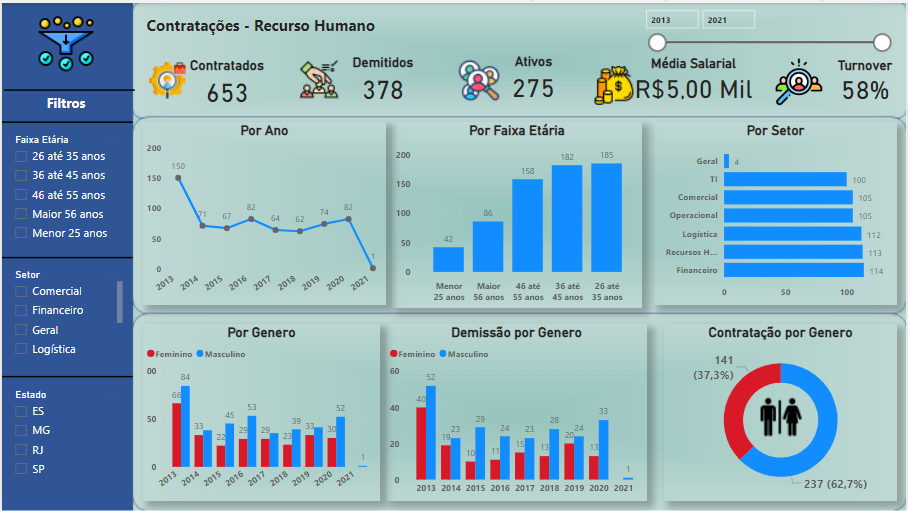

Layout of this report page (visuals, bound fields, positions):
{"tool":"powerbi","page":{"name":"Contratações","canvas":[1280,720],"ordinal":0},"visuals":[{"type":"image","box":[41,11.3,99,93.4],"z":0},{"type":"shape","box":[2.8,104.7,185.3,36.8],"z":1000},{"type":"shape","box":[0,140,185.3,56.6],"z":2000},{"type":"slicer","fields":{"Values":["Funcionários.Faixa Etária"]},"box":[5.7,179.6,169.7,169.7],"z":3000},{"type":"slicer","fields":{"Values":["Funcionários.Setor"]},"box":[5.7,370.6,169.7,134.4],"z":4000},{"type":"slicer","fields":{"Values":["Funcionários.Estado"]},"box":[5.7,540.4,169.7,164.1],"z":5000},{"type":"shape","box":[0,336.7,185.3,46.7],"z":6000},{"type":"shape","box":[0,505,185.3,46.7],"z":7000},{"type":"textbox","box":[5.7,123.1,169.7,45.3],"z":8000},{"type":"image","box":[199.4,72.1,69.3,73.6],"z":9000},{"type":"card","title":"Contratados","fields":{"Values":["Medida.Total Funcionários"]},"box":[257.4,76.4,121.7,73.6],"z":10000},{"type":"card","title":"Demitidos","fields":{"Values":["Medida.Total Fun Demitidos"]},"box":[464,72.1,149.9,73.6],"z":11000},{"type":"image","box":[413,75,70.7,65.1],"z":12000},{"type":"image","box":[639.4,75,70.7,69.3],"z":13000},{"type":"card","title":"Ativos","fields":{"Values":["Medida.Total Fun Ativos"]},"box":[697.4,70.7,108.9,70.7],"z":14000},{"type":"image","box":[833.2,65.1,65.1,103.3],"z":15000},{"type":"card","title":"Média Salarial","fields":{"Values":["Medida.Média Salário"]},"box":[888.3,73.6,179.6,67.9],"z":16000},{"type":"image","box":[1079.3,73.6,96.2,76.4],"z":17000},{"type":"card","title":"Turnover","fields":{"Values":["Medida.Turnover"]},"box":[1175.5,76.4,90.5,65.1],"z":18000},{"type":"textbox","box":[199.4,11.3,383.3,46.7],"z":19000},{"type":"slicer","fields":{"Values":["Funcionários.Data_Contratação.Variation.Date Hierarchy.Year"]},"box":[898.2,0,367.8,70.7],"z":20000},{"type":"lineChart","title":"Por Ano","fields":{"Category":["Funcionários.Ano Contratação"],"Y":["Medida.Total Funcionários"]},"box":[199.4,168.3,343.7,258.9],"z":21000},{"type":"clusteredColumnChart","title":"Por Faixa Etária","fields":{"Category":["Funcionários.Faixa Etária"],"Y":["Medida.Total Funcionários"]},"box":[551.7,168.3,353.6,263.1],"z":22000},{"type":"clusteredColumnChart","title":"Por Genero","fields":{"Y":["Medida.Total Funcionários"],"Series":["Funcionários.Genero"],"Category":["Funcionários.Ano Contratação"]},"box":[199.4,454.1,335.2,250.4],"z":23000},{"type":"clusteredColumnChart","title":"Demissão por Genero","fields":{"Y":["Medida.Total Fun Demitidos"],"Series":["Funcionários.Genero"],"Category":["Funcionários.Ano Contratação"]},"box":[543.2,454.1,369.2,250.4],"z":24000},{"type":"donutChart","title":"Contratação por Genero","fields":{"Y":["Medida.Total Fun Demitidos"],"Category":["Funcionários.Genero"]},"box":[936.4,454.1,329.6,250.4],"z":25000},{"type":"clusteredBarChart","title":"Por Setor","fields":{"Y":["Medida.Total Funcionários"],"Category":["Funcionários.Setor"]},"box":[922.3,168.3,343.7,258.9],"z":26000},{"type":"image","box":[1068,551.7,67.9,67.9],"z":27000}]}

Visuals, with their boxes in screenshot pixels (x1, y1, x2, y2), scaled from the page's 1280x720 canvas onto the 908x511 screenshot:
image: x1=29 y1=8 x2=99 y2=74
shape: x1=2 y1=74 x2=133 y2=100
shape: x1=0 y1=99 x2=131 y2=140
slicer - Funcionários.Faixa Etária: x1=4 y1=127 x2=124 y2=248
slicer - Funcionários.Setor: x1=4 y1=263 x2=124 y2=358
slicer - Funcionários.Estado: x1=4 y1=384 x2=124 y2=500
shape: x1=0 y1=239 x2=131 y2=272
shape: x1=0 y1=358 x2=131 y2=392
textbox: x1=4 y1=87 x2=124 y2=120
image: x1=141 y1=51 x2=191 y2=103
"Contratados" card: x1=183 y1=54 x2=269 y2=106
"Demitidos" card: x1=329 y1=51 x2=435 y2=103
image: x1=293 y1=53 x2=343 y2=99
image: x1=454 y1=53 x2=504 y2=102
"Ativos" card: x1=495 y1=50 x2=572 y2=100
image: x1=591 y1=46 x2=637 y2=120
"Média Salarial" card: x1=630 y1=52 x2=758 y2=100
image: x1=766 y1=52 x2=834 y2=106
"Turnover" card: x1=834 y1=54 x2=898 y2=100
textbox: x1=141 y1=8 x2=413 y2=41
slicer - Funcionários.Data_Contratação.Variation.Date Hierarchy.Year: x1=637 y1=0 x2=898 y2=50
"Por Ano" lineChart: x1=141 y1=119 x2=385 y2=303
"Por Faixa Etária" clusteredColumnChart: x1=391 y1=119 x2=642 y2=306
"Por Genero" clusteredColumnChart: x1=141 y1=322 x2=379 y2=500
"Demissão por Genero" clusteredColumnChart: x1=385 y1=322 x2=647 y2=500
"Contratação por Genero" donutChart: x1=664 y1=322 x2=898 y2=500
"Por Setor" clusteredBarChart: x1=654 y1=119 x2=898 y2=303
image: x1=758 y1=392 x2=806 y2=440
